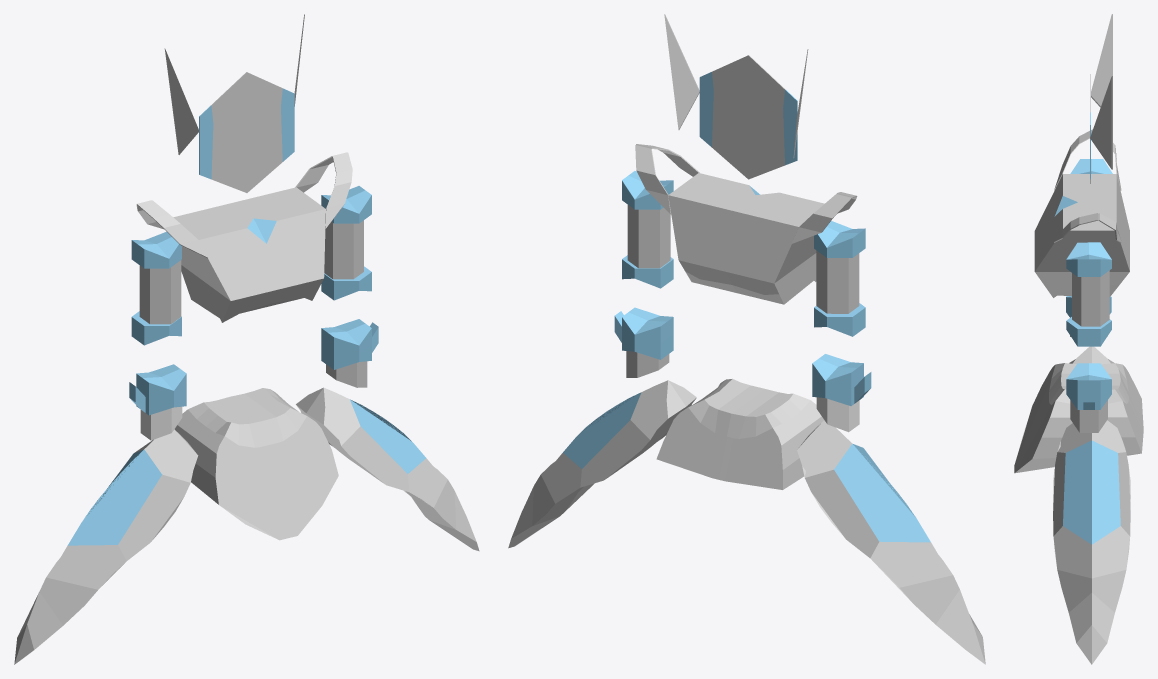
The model's file is Player.fbx.
3 renders of one model, left to right at view 1: azimuth 30°, elevation 25°; view 2: azimuth 150°, elevation 25°; view 3: azimuth 270°, elevation 25°, orthographic. The views are drawn at different scales.
Parts seen in each view (by area): view 1: Torso.003, Tren inferior.005, Ala.006, Cabeza.003, Ala.005, Brazo.007, muñeca.004, muñeca.005, Brazo.006, Hombro.007, Hombro.006, cañon.008 (+3 smaller); view 2: Torso.003, Ala.006, Tren inferior.005, Cabeza.003, Ala.005, Brazo.006, Brazo.007, muñeca.004, muñeca.005, Hombro.007, Hombro.006, cañon.008 (+3 smaller); view 3: Ala.005, Torso.003, Tren inferior.005, Cabeza.003, Brazo.006, muñeca.004, Hombro.006, Codo.006, cañon.007, Hombro.007, Ala.006.
Part boxes in pixels (x1,y1,x2,y2): Torso.003: (136,152,352,322); Tren inferior.005: (174,388,338,540); Ala.006: (14,429,198,664); Cabeza.003: (164,14,304,192); Ala.005: (296,387,479,551); Brazo.007: (139,260,181,324); muñeca.004: (321,319,378,369); muñeca.005: (129,364,186,415); Brazo.006: (324,220,363,279); Hombro.007: (131,231,181,268); Hombro.006: (321,186,371,223); cañon.008: (140,406,182,440); Torso.003: (635,144,857,304); Ala.006: (797,420,985,664); Tren inferior.005: (656,379,823,489); Cabeza.003: (664,14,808,179); Ala.005: (508,380,696,548); Brazo.006: (627,205,670,268); Brazo.007: (816,250,859,313); muñeca.004: (614,307,673,359); muñeca.005: (812,354,871,405); Hombro.007: (814,220,865,257); Hombro.006: (622,171,673,209); cañon.008: (816,397,859,432); Ala.005: (1053,420,1130,664); Torso.003: (1034,129,1129,297); Tren inferior.005: (1014,363,1143,473); Cabeza.003: (1090,14,1112,183); Brazo.006: (1072,270,1109,326); muñeca.004: (1066,363,1111,409); Hombro.006: (1066,242,1111,276); Codo.006: (1066,317,1111,346); cañon.007: (1070,400,1107,432); Hombro.007: (1070,159,1112,173); Ala.006: (1069,346,1114,364).
Bounding box in the file's own units: 129 × 151 × 34.26.
